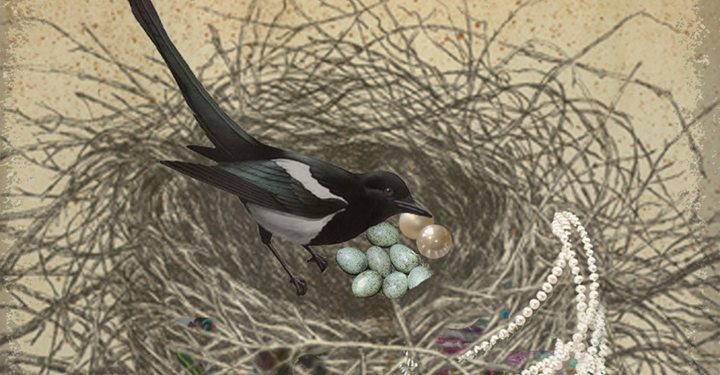magpie: (139, 11, 442, 295)
